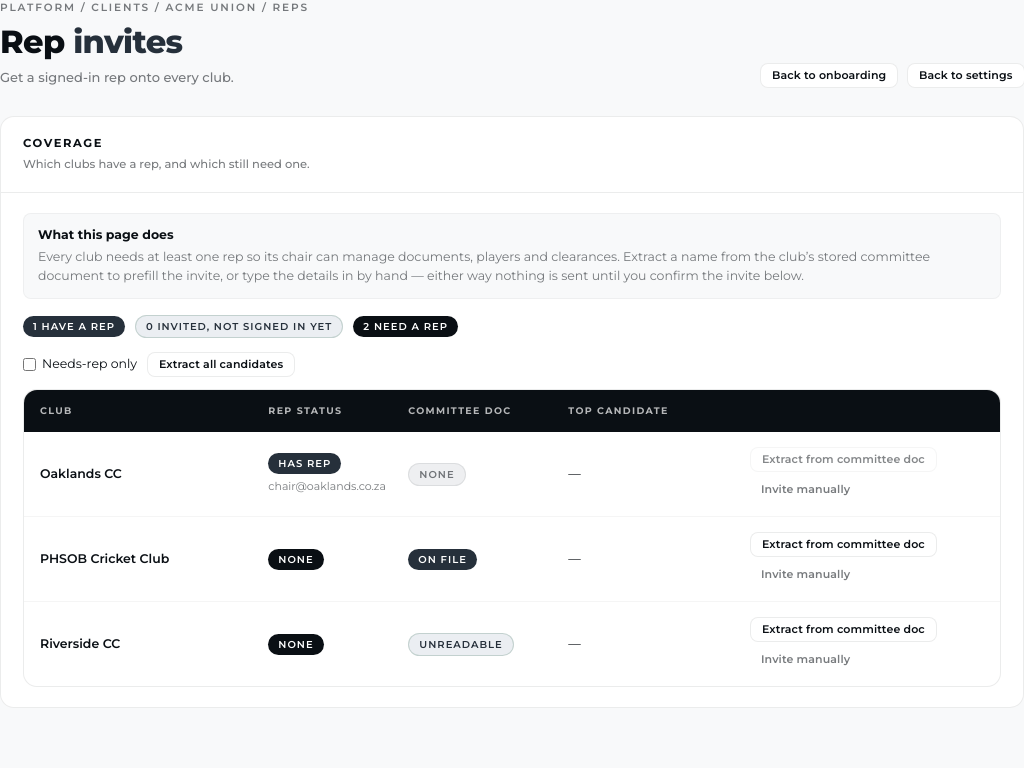
it: RepsPage › surfaces a legacy-.xls server reason verbatim in the unparseable-doc modal
Check: the heading "Rep invites" is shown, box [0,22,182,61]
Step 1. Click the button "Extract from committee doc" in the row of "Riverside CC" → (843, 629), box [750,617,937,642]
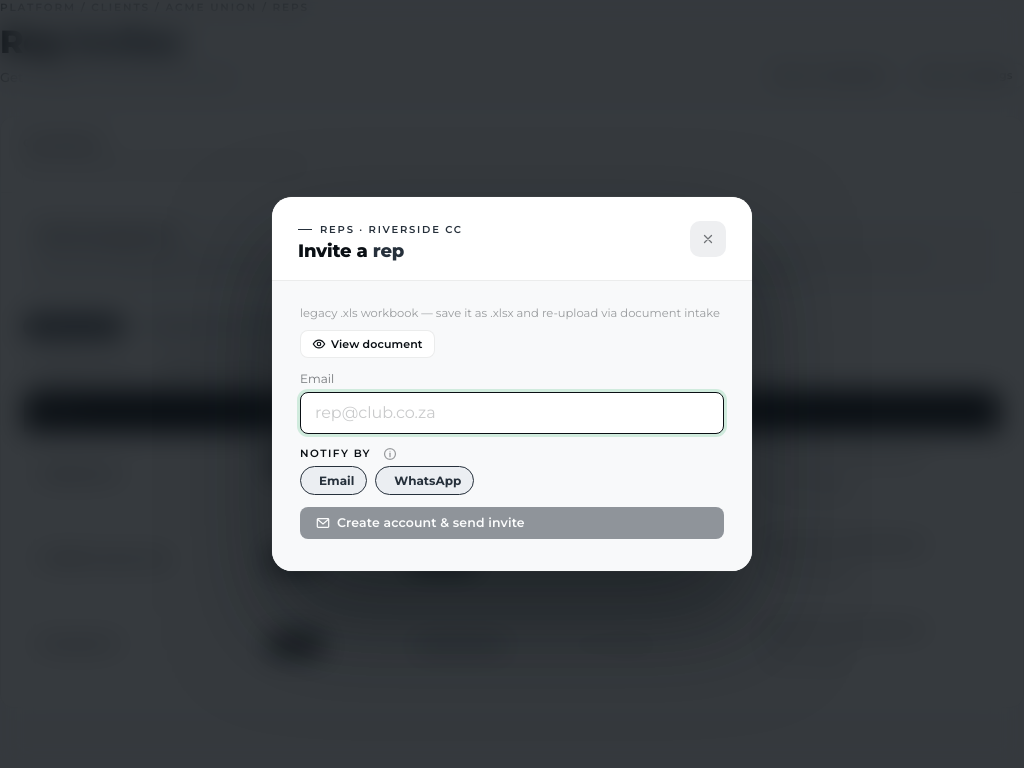
Check: the text "Invite a rep" is shown, box [298,240,404,262]
Check: the text "legacy .xls workbook — save it as .xlsx and re-upload via document intake" is shown, box [300,306,720,320]
